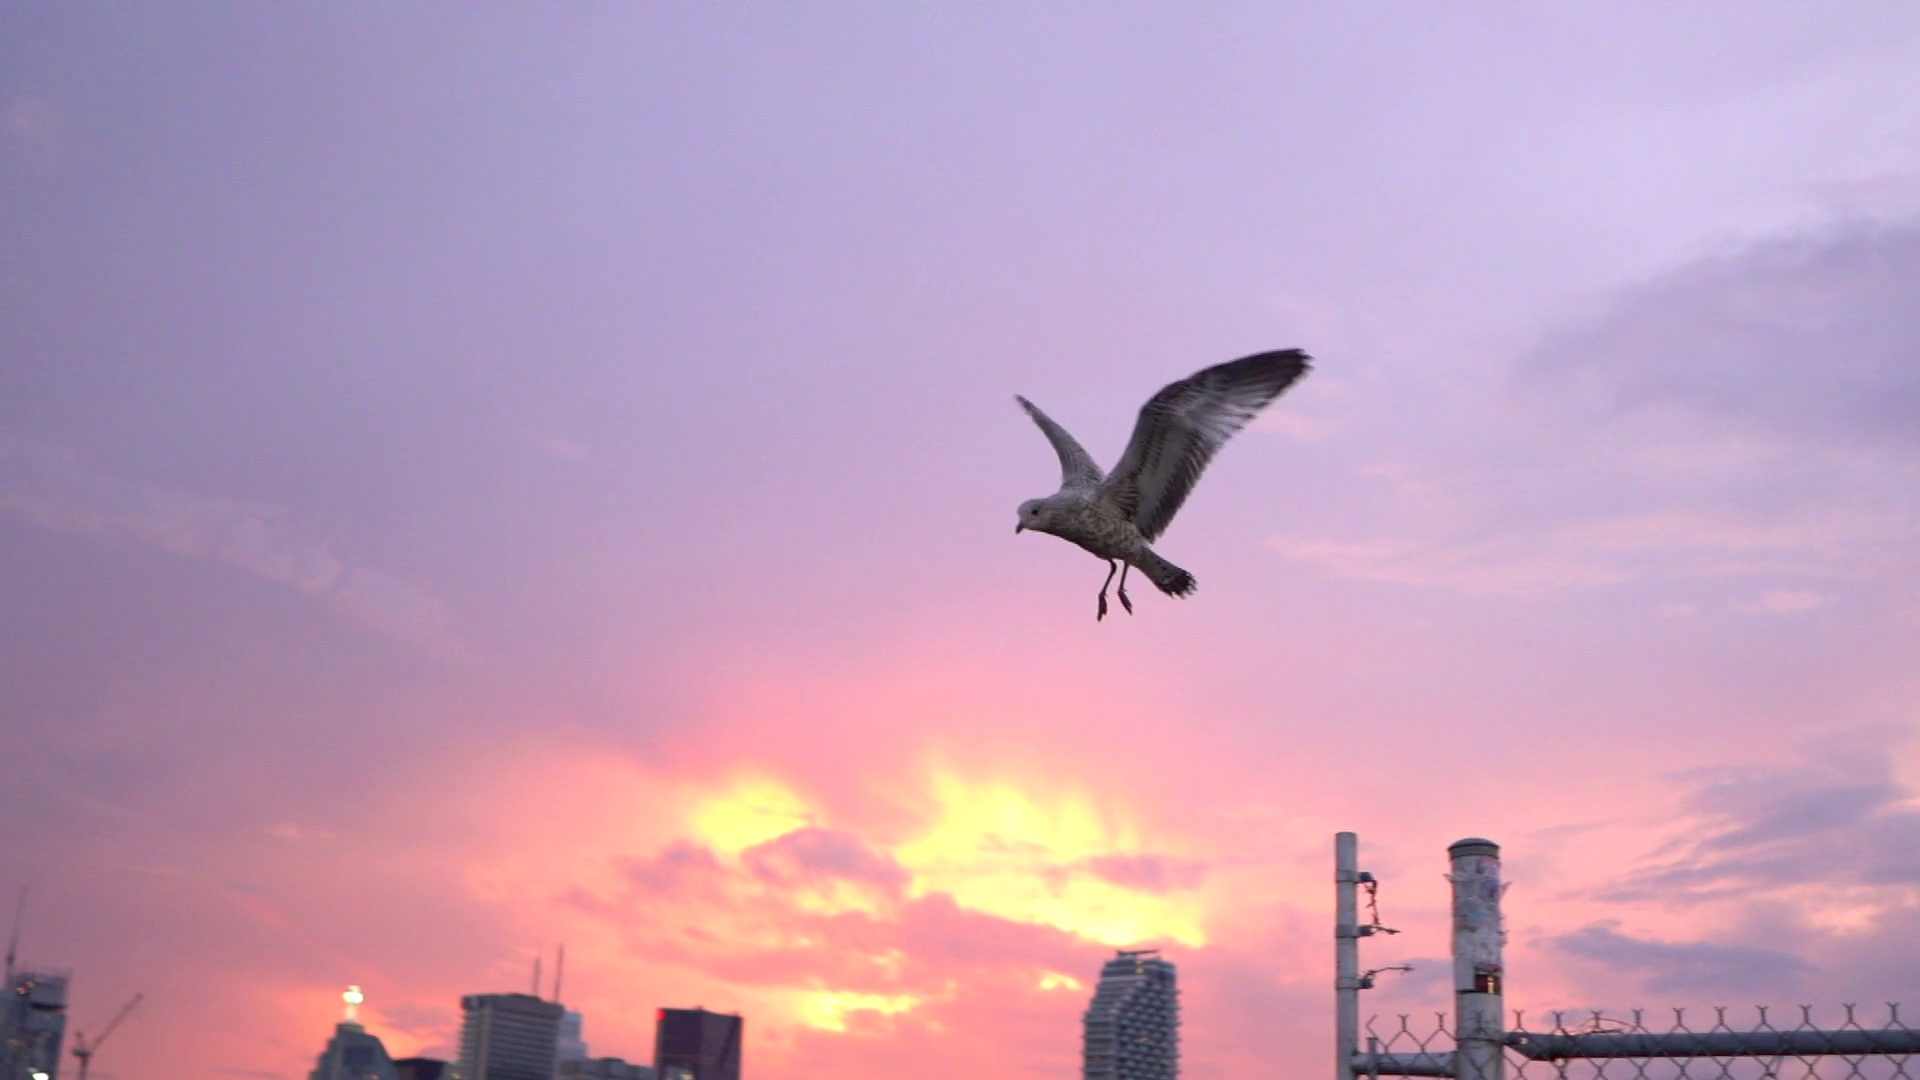bird: (1011, 342, 1311, 617)
